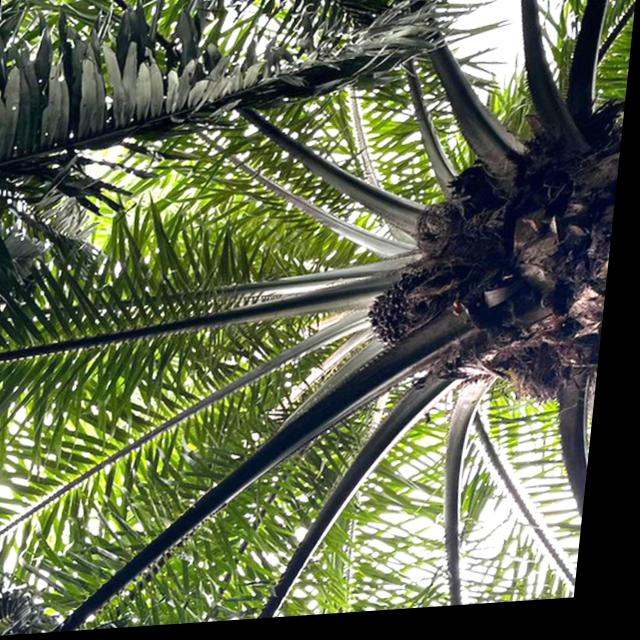ripe: (358, 273, 448, 359)
